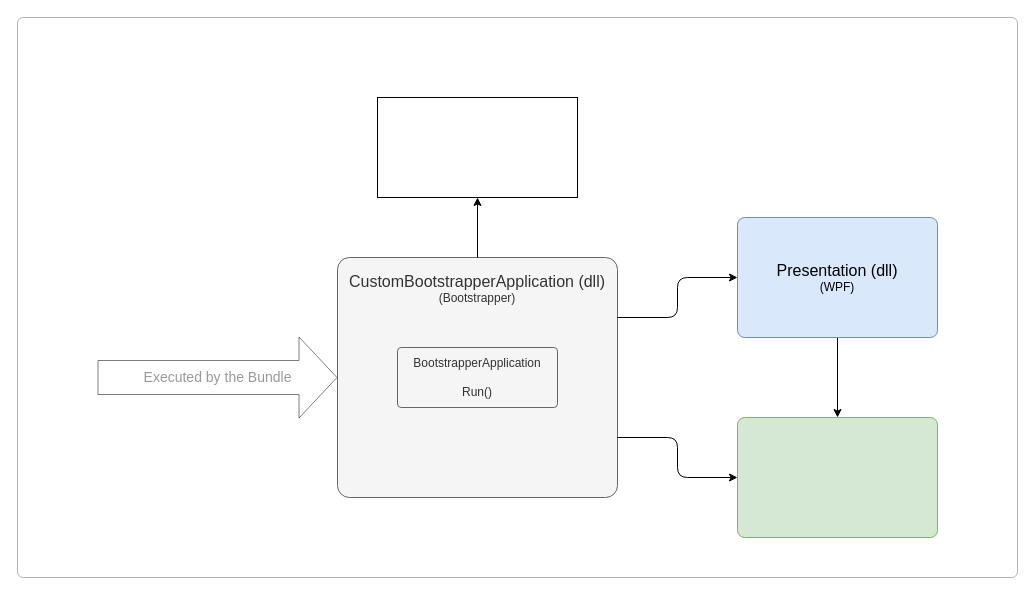
Image size: 1035x595. Some labels were removed from this diagram. The centre of each missing label's shape, as x and y in pixels:
BootstrapperCore.dll Detect() Plan() Apply(): the point at 477,147
Domain (dll): the point at 837,477
